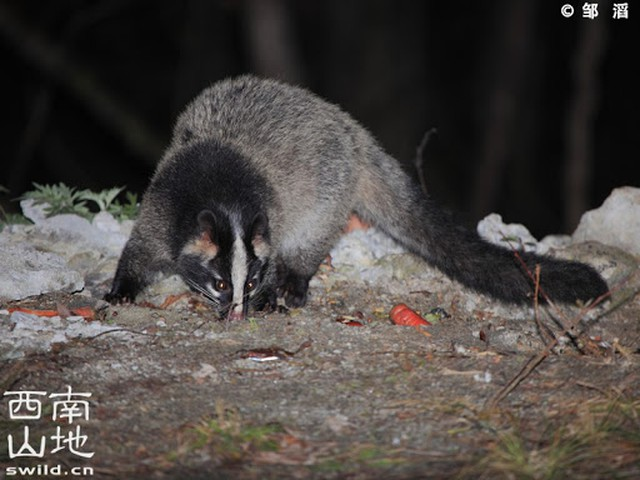civet: (100, 69, 612, 346)
